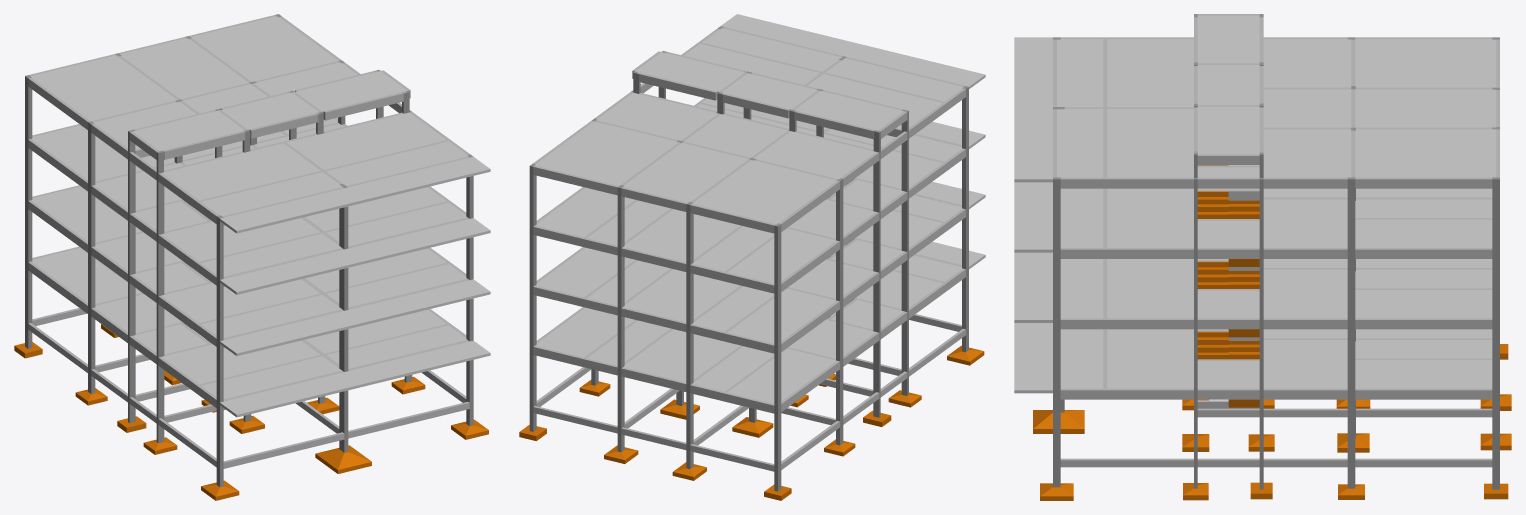
Rendered from floors.glb.
3 renders of one model, left to right at view 1: azimuth 30°, elevation 25°; view 2: azimuth 150°, elevation 25°; view 3: azimuth 270°, elevation 25°, orthographic. The views are drawn at different scales.
Visible parts, largest first — view 1: Floor.4, Floor.3, Floor.1, Floor.2, Floor.0, Floor.-1; view 2: Floor.4, Floor.3, Floor.2, Floor.1, Floor.0, Floor.-1; view 3: Floor.4, Floor.2, Floor.1, Floor.3, Floor.0, Floor.-1.
Boxes of the visible parts, bbox=[...] form: Floor.4: bbox=[28, 15, 490, 233]; Floor.3: bbox=[25, 14, 490, 294]; Floor.1: bbox=[25, 199, 490, 417]; Floor.2: bbox=[25, 137, 490, 355]; Floor.0: bbox=[25, 260, 473, 468]; Floor.-1: bbox=[14, 321, 488, 500]; Floor.4: bbox=[533, 14, 985, 233]; Floor.3: bbox=[529, 26, 985, 293]; Floor.2: bbox=[529, 147, 985, 353]; Floor.1: bbox=[529, 207, 985, 413]; Floor.0: bbox=[529, 267, 968, 471]; Floor.-1: bbox=[519, 305, 984, 500]; Floor.4: bbox=[1014, 14, 1499, 188]; Floor.2: bbox=[1014, 165, 1499, 329]; Floor.1: bbox=[1014, 261, 1499, 399]; Floor.3: bbox=[1014, 37, 1499, 258]; Floor.0: bbox=[1053, 331, 1499, 467]; Floor.-1: bbox=[1033, 344, 1511, 500].
Size of the model in its own units: 1400 by 1450 by 1925.
